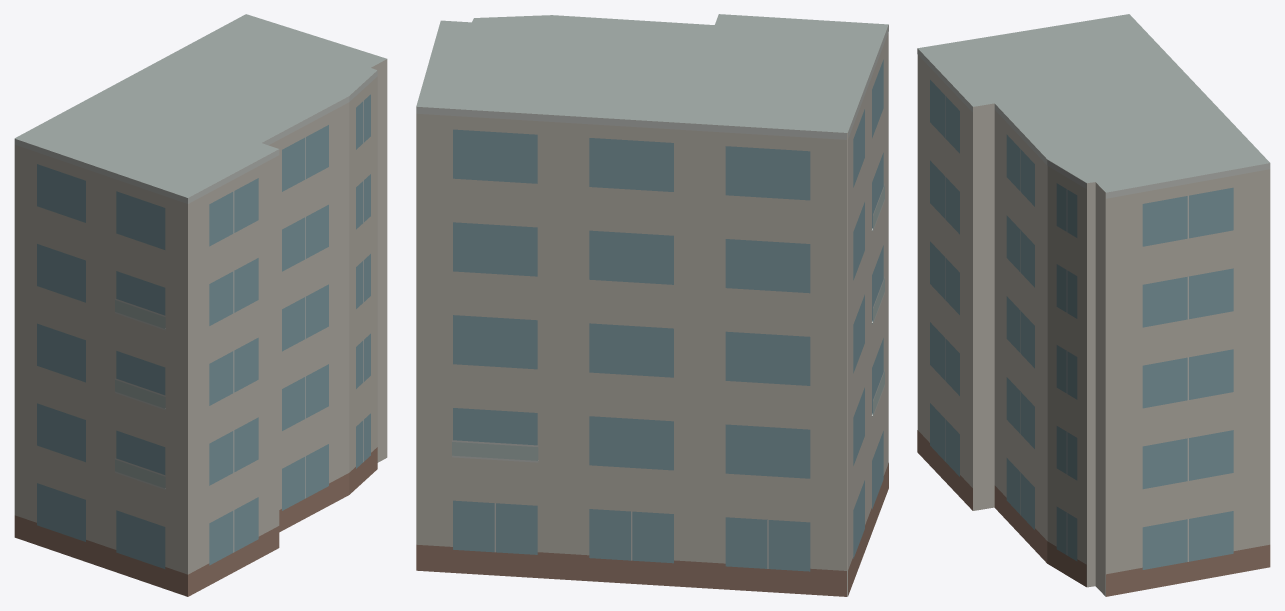
File: survey-upis-32671195.glb
3 views of the same model, side by side, from view 1: azimuth 30°, elevation 25°; view 2: azimuth 150°, elevation 25°; view 3: azimuth 270°, elevation 25° (orthographic). The views are drawn at different scales.
Parts seen in each view (by area): view 1: survey-upis-32671195.tmp; view 2: survey-upis-32671195.tmp; view 3: survey-upis-32671195.tmp.
Boxes of the visible parts, x1=… form: survey-upis-32671195.tmp: x1=14, y1=14, x2=387, y2=596; survey-upis-32671195.tmp: x1=416, y1=14, x2=888, y2=596; survey-upis-32671195.tmp: x1=917, y1=14, x2=1270, y2=596.
Size of the model in its own units: 15.37 by 16.2 by 12.83.
